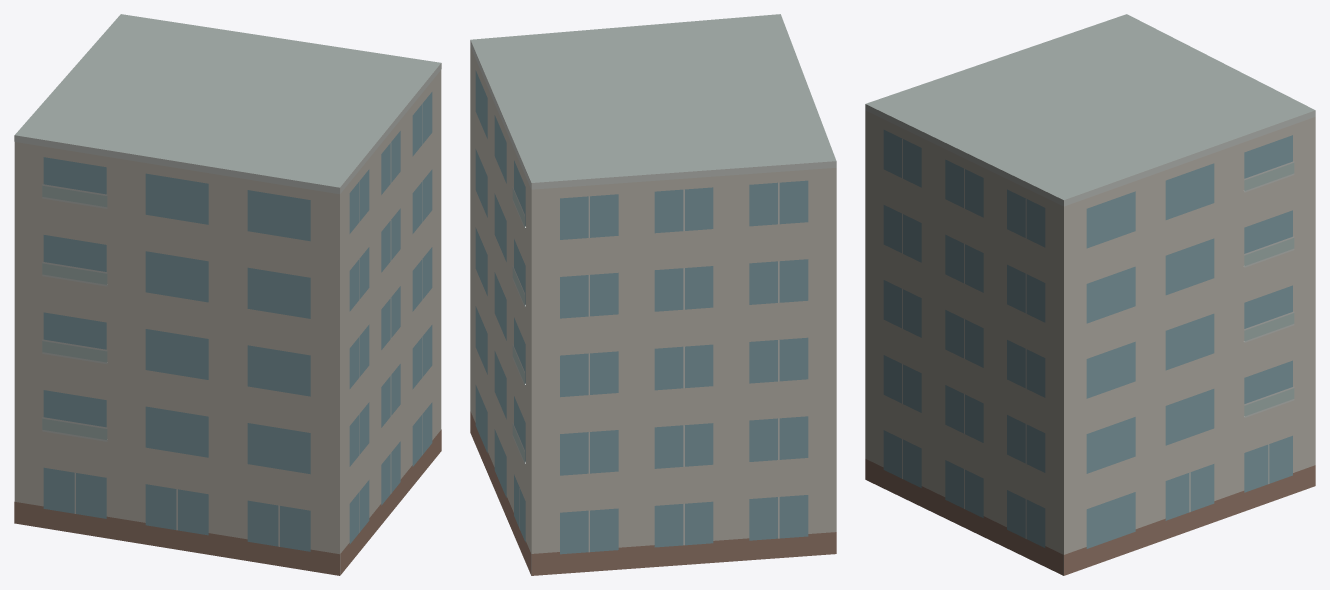
File: survey-upis-32883513.glb
3 renders of one model, left to right at view 1: azimuth 30°, elevation 25°; view 2: azimuth 150°, elevation 25°; view 3: azimuth 270°, elevation 25°, orthographic. The views are drawn at different scales.
Parts seen in each view (by area): view 1: survey-upis-32883513.tmp; view 2: survey-upis-32883513.tmp; view 3: survey-upis-32883513.tmp.
Boxes of the visible parts, box(x1,y1,x2,y2) form: survey-upis-32883513.tmp: box(14, 14, 441, 575); survey-upis-32883513.tmp: box(470, 14, 836, 575); survey-upis-32883513.tmp: box(865, 14, 1315, 575).
Bounding box in the file's own units: 15.28 × 14.36 × 15.61.
